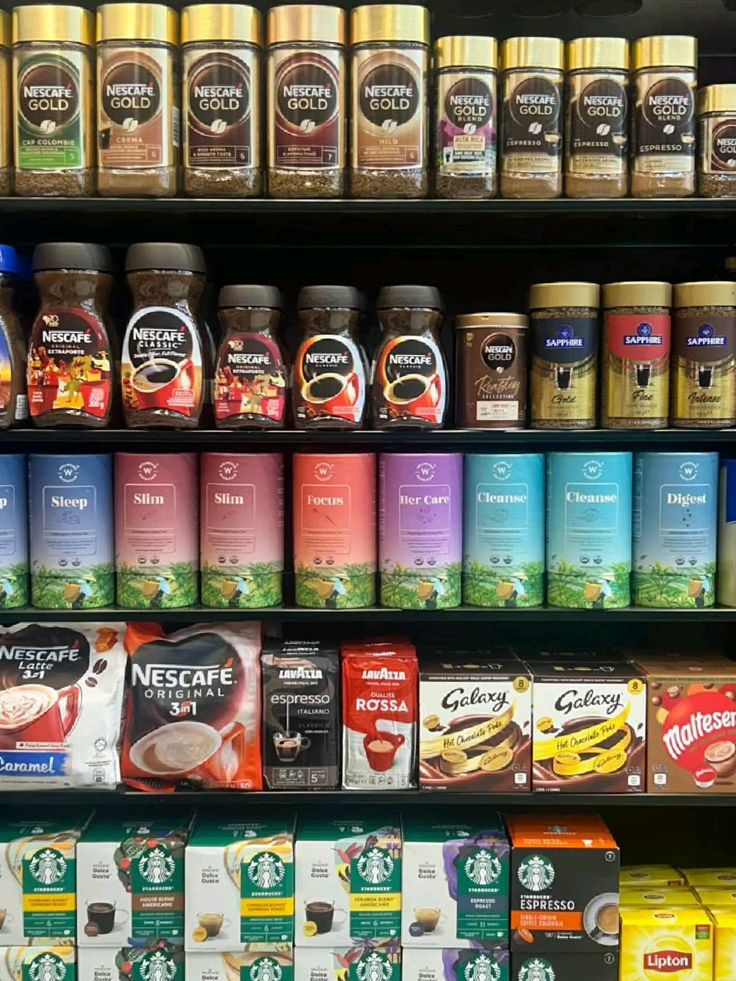Galaxy: (417, 654, 537, 794)
Nescafe Gold: (265, 34, 346, 164)
Nescafe Original: (115, 606, 271, 768)
